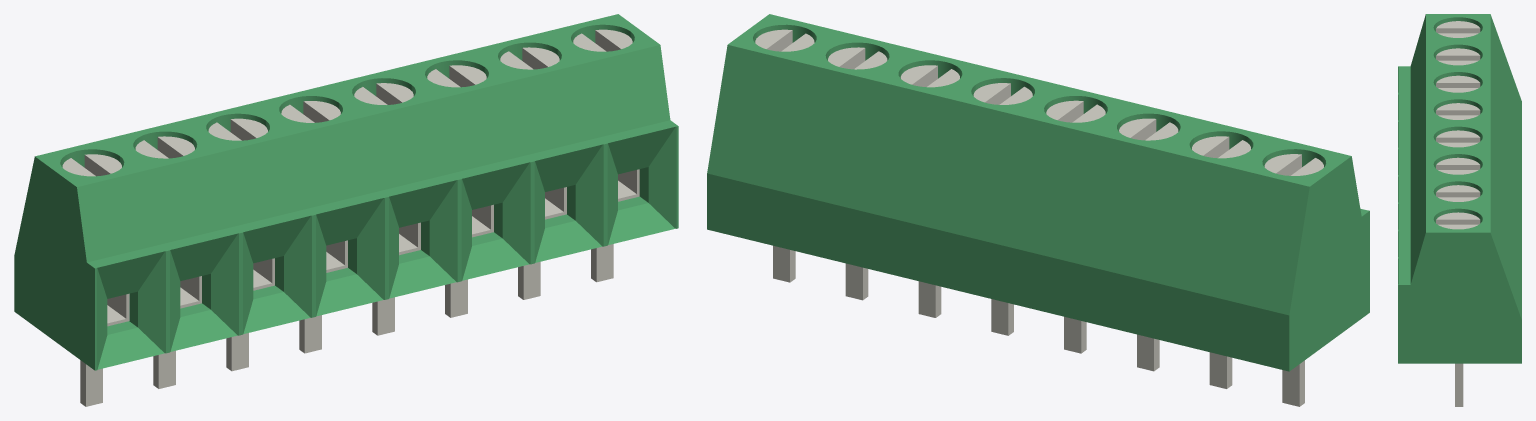
Rendered from kc-terminalblock_phoenix_mkds-1-8-3.81_1x08_p3.81mm_horizontal.glb.
3 views of the same model, side by side, from view 1: azimuth 30°, elevation 25°; view 2: azimuth 150°, elevation 25°; view 3: azimuth 270°, elevation 25° (orthographic). The views are drawn at different scales.
Parts seen in each view (by area): view 1: 0.08333333333333333_0.4166666666666667_0.16666666666666666_0, 0.6666666666666666_0.6666666666666666_0.5833333333333334_0.8; view 2: 0.08333333333333333_0.4166666666666667_0.16666666666666666_0, 0.6666666666666666_0.6666666666666666_0.5833333333333334_0.8; view 3: 0.08333333333333333_0.4166666666666667_0.16666666666666666_0, 0.6666666666666666_0.6666666666666666_0.5833333333333334_0.8.
Boxes of the visible parts, x1=… form: 0.08333333333333333_0.4166666666666667_0.16666666666666666_0: x1=14, y1=14, x2=678, y2=370; 0.6666666666666666_0.6666666666666666_0.5833333333333334_0.8: x1=62, y1=29, x2=639, y2=406; 0.08333333333333333_0.4166666666666667_0.16666666666666666_0: x1=707, y1=14, x2=1369, y2=371; 0.6666666666666666_0.6666666666666666_0.5833333333333334_0.8: x1=755, y1=29, x2=1323, y2=406; 0.08333333333333333_0.4166666666666667_0.16666666666666666_0: x1=1398, y1=14, x2=1521, y2=363; 0.6666666666666666_0.6666666666666666_0.5833333333333334_0.8: x1=1436, y1=21, x2=1480, y2=406.
Size of the model in its own units: 3.05 by 1.2 by 0.73.
